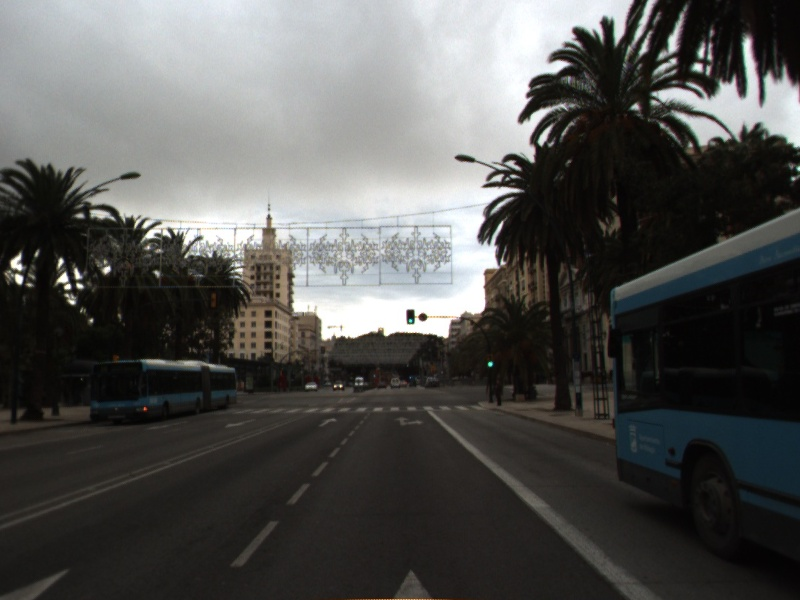STRAIGHT: (316, 416, 339, 428)
STRAIGHT_RIGHT: (392, 415, 426, 427)
